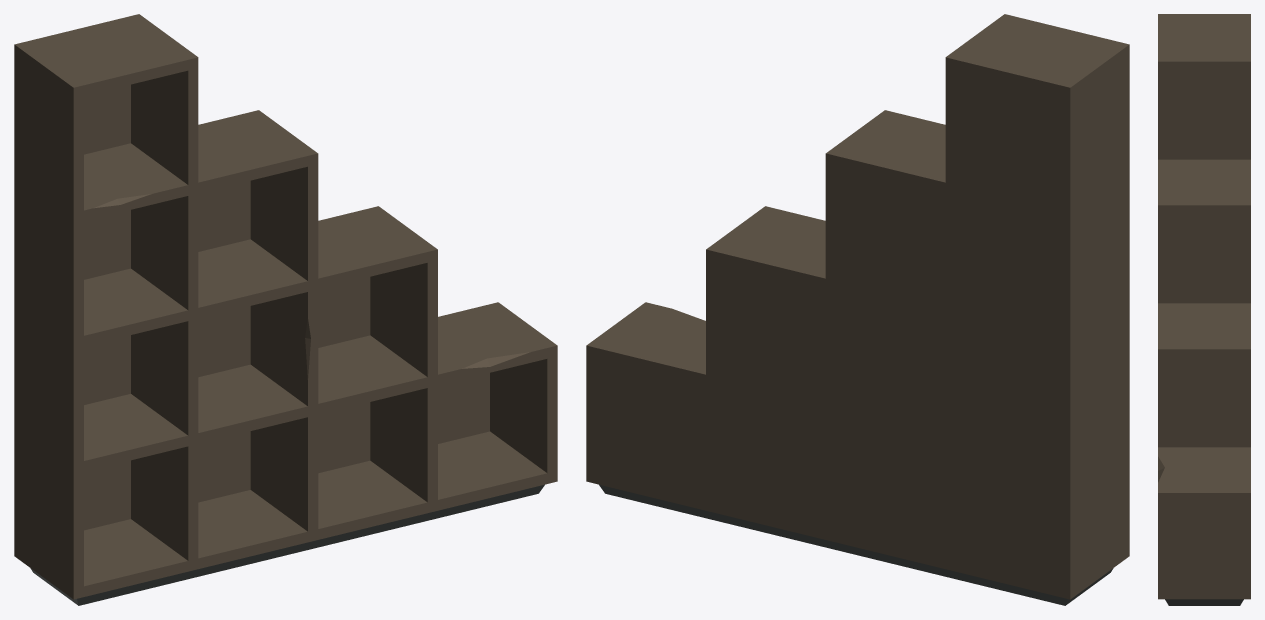
File: SM_Props_Interior_House_Room_Shelf_Decorative_02.fbx
3 views of the same model, side by side, from view 1: azimuth 30°, elevation 25°; view 2: azimuth 150°, elevation 25°; view 3: azimuth 270°, elevation 25° (orthographic). The views are drawn at different scales.
Parts seen in each view (by area): view 1: SM_Props_Interior_House_Room_Shelf_Decorative_02; view 2: SM_Props_Interior_House_Room_Shelf_Decorative_02; view 3: SM_Props_Interior_House_Room_Shelf_Decorative_02.
Boxes of the visible parts, <box> form: SM_Props_Interior_House_Room_Shelf_Decorative_02: <box>14,14,557,605</box>; SM_Props_Interior_House_Room_Shelf_Decorative_02: <box>586,14,1129,605</box>; SM_Props_Interior_House_Room_Shelf_Decorative_02: <box>1158,14,1250,605</box>.
Size of the model in its own units: 141 by 147 by 30.
